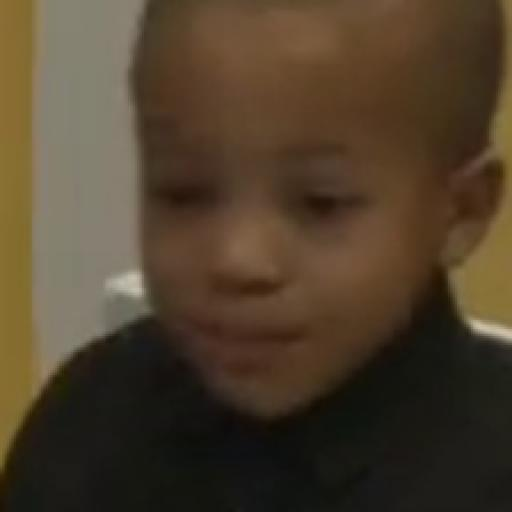Autism: (124, 0, 498, 510)
